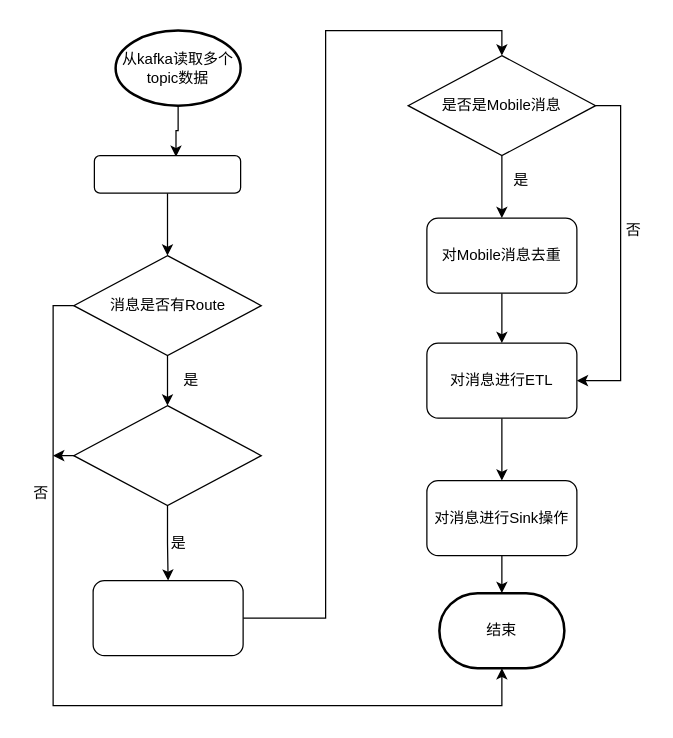
The diagram is 673 pixels wide and 738 high, and some of its shapes have lost their labels. The shapes that lost their labels are listed below. From the top down, each one's centre as x and y in pixels, then its label:
At [167,173]: "解析消息".
At [166,455]: "消息是否有配置 数据加工".
At [167,617]: "解析消息体".
